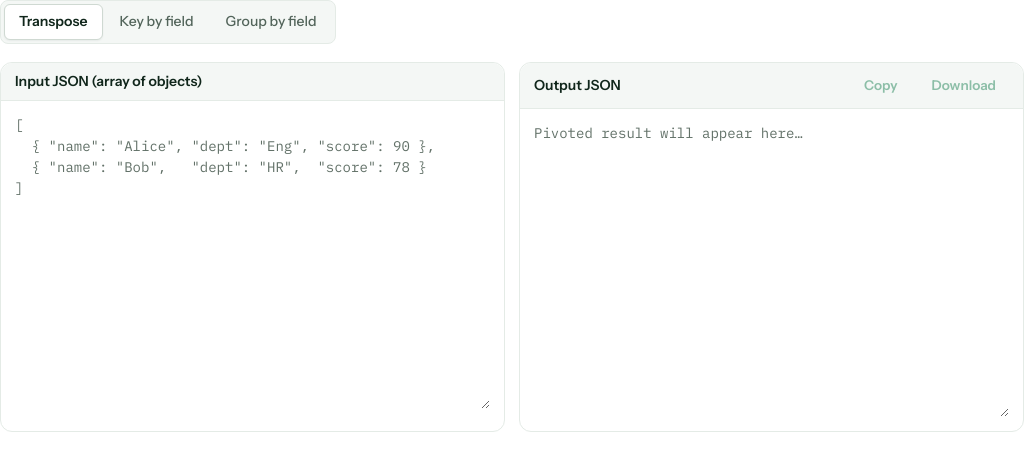
Test case: JsonPivot › shows an error when array contains non-objects
Replace the text in the 1st text box with "[1,2,3]" at (252, 262), box [15, 115, 490, 409]
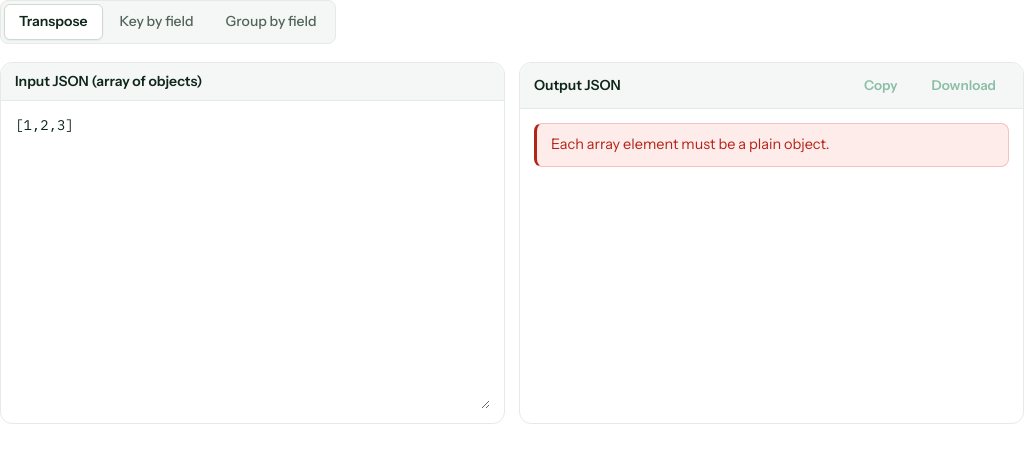
Expected: the text "Each array element must be a plain object." is shown, [534, 123, 1009, 167]
